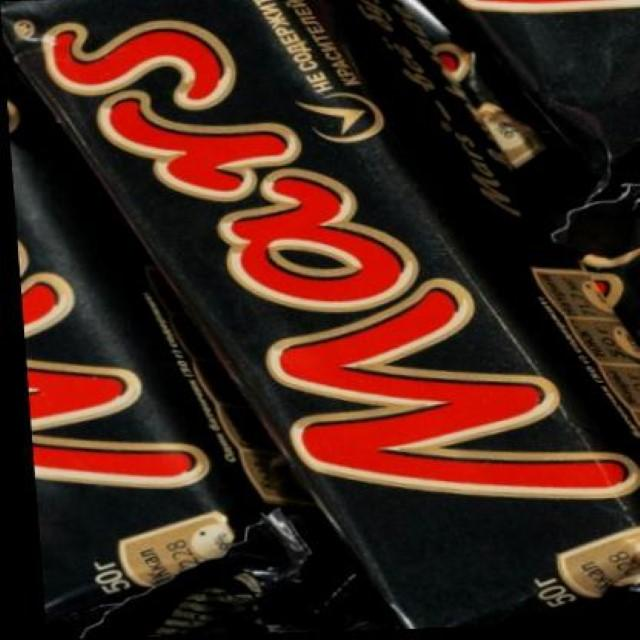mars_chocolate: (100, 15, 640, 640)
